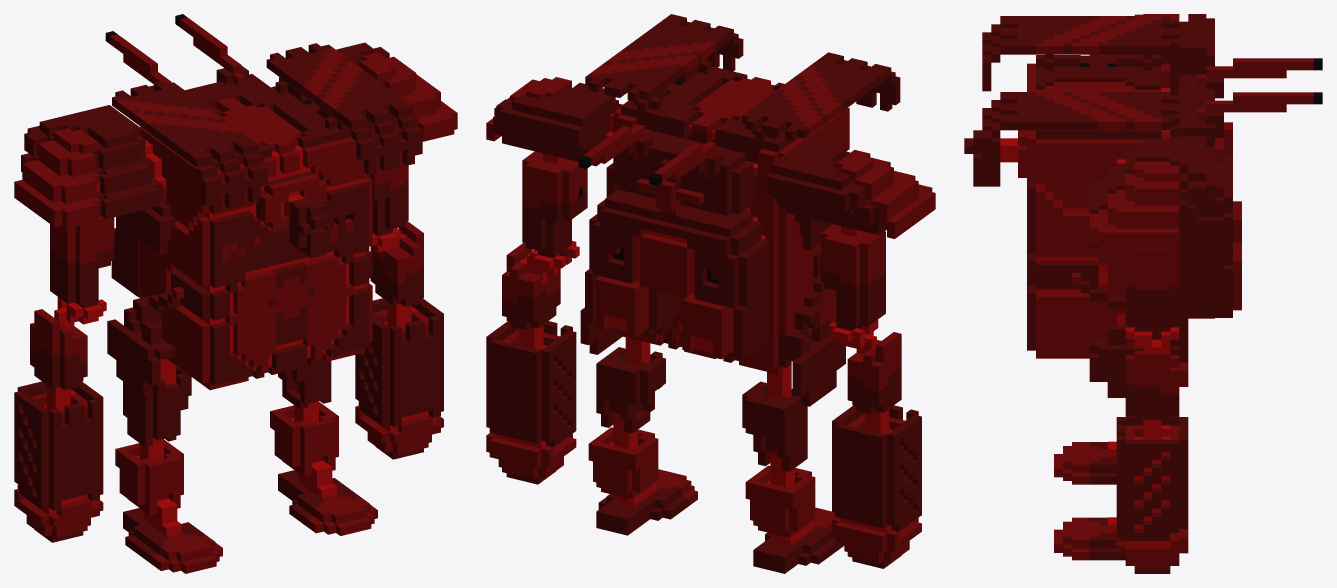
Rendered from lvl7.obj.
3 renders of one model, left to right at view 1: azimuth 30°, elevation 25°; view 2: azimuth 150°, elevation 25°; view 3: azimuth 270°, elevation 25°, orthographic.
Bounding box in the file's own units: 5.2 × 5.4 × 4.
1 material, 1 textured.
